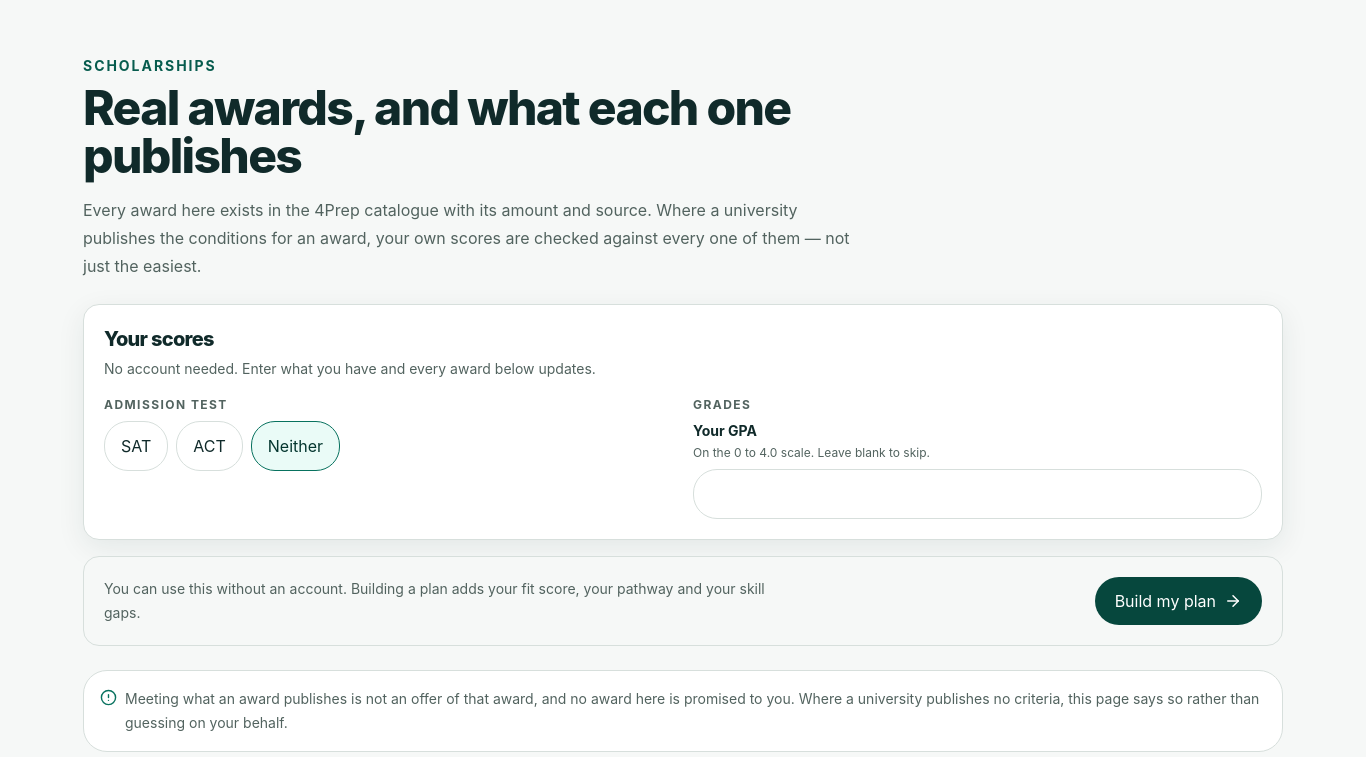
Test: ScholarshipScreen › refuses an out-of-range score typed by a visitor
Click the radio button labelled "ACT" at {"x": 210, "y": 446}, box x1=176 y1=421 x2=243 y2=471
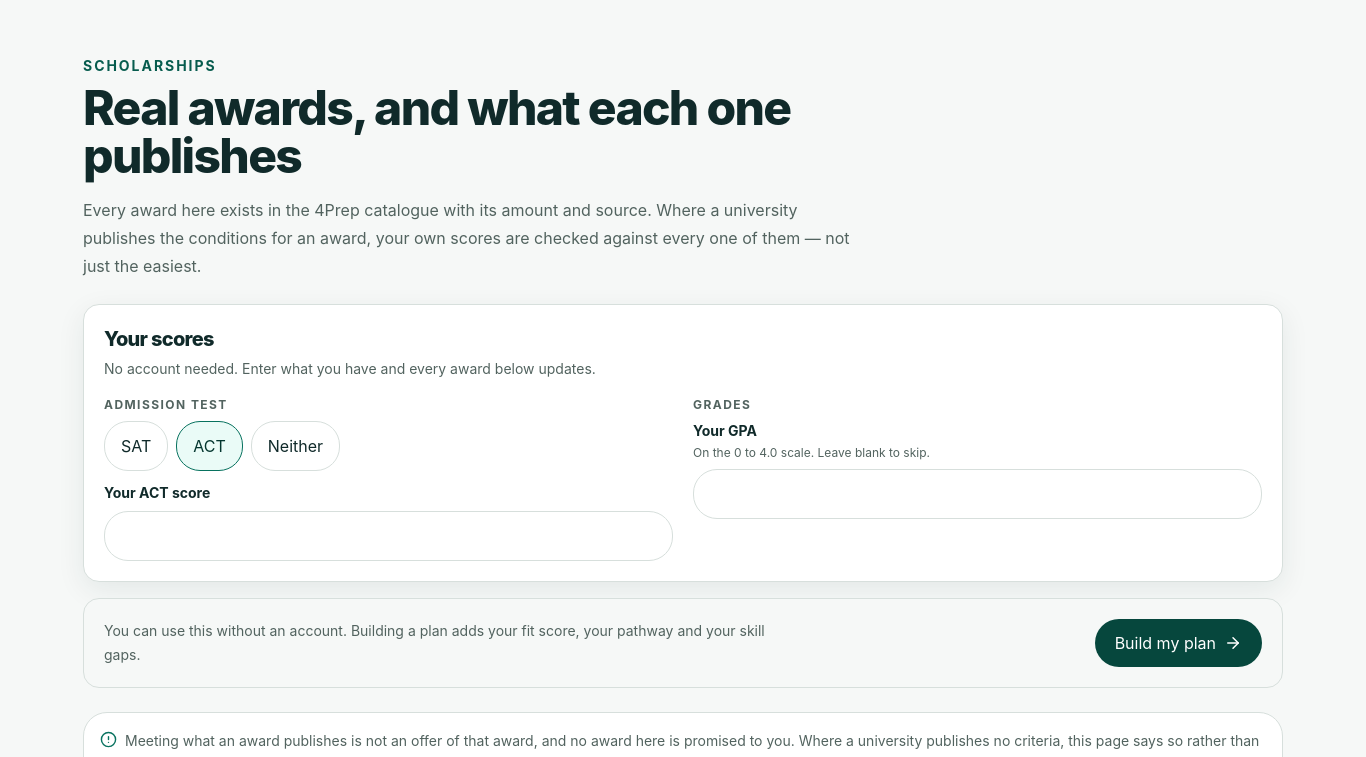
Type "99" into the number field labelled "Your ACT score" at {"x": 388, "y": 536}, box x1=104 y1=511 x2=673 y2=561
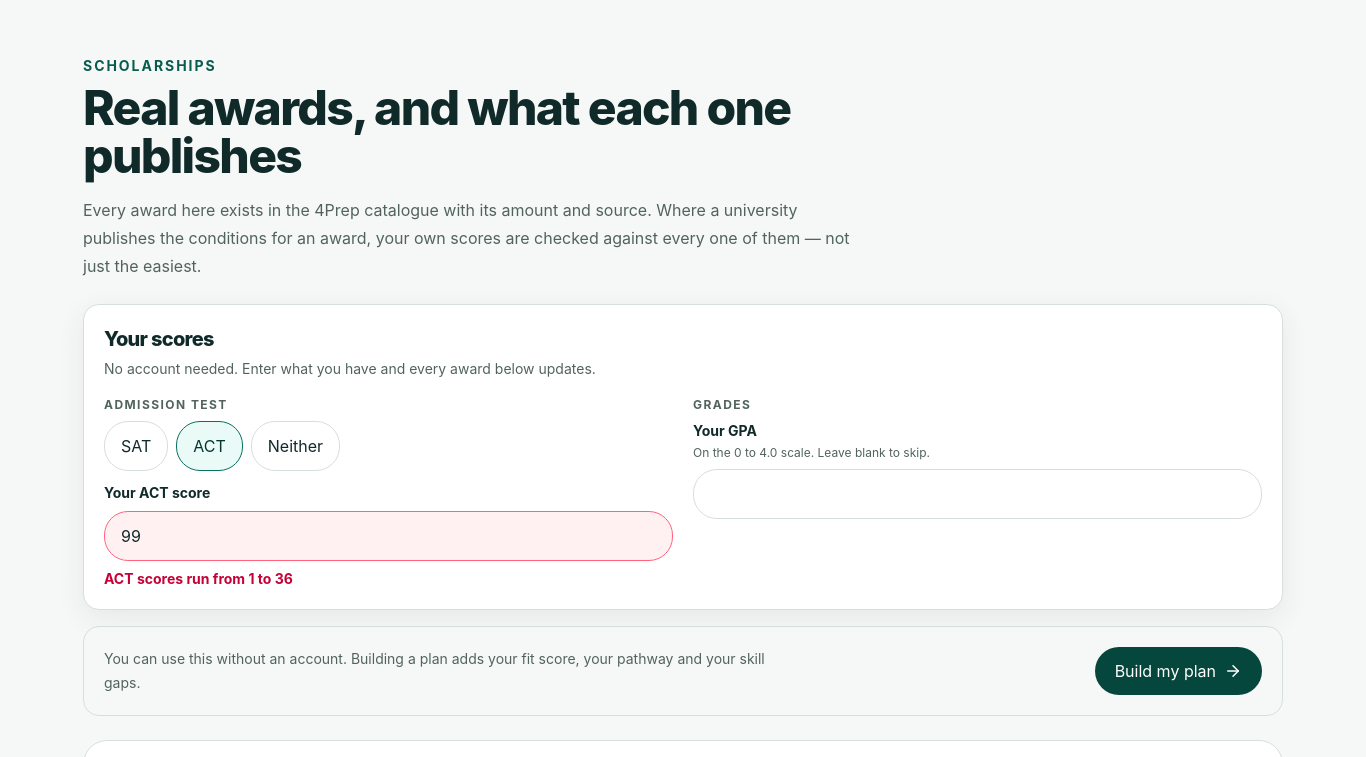
Check: the message reads "ACT scores run from 1 to 36", box x1=104 y1=570 x2=293 y2=587
